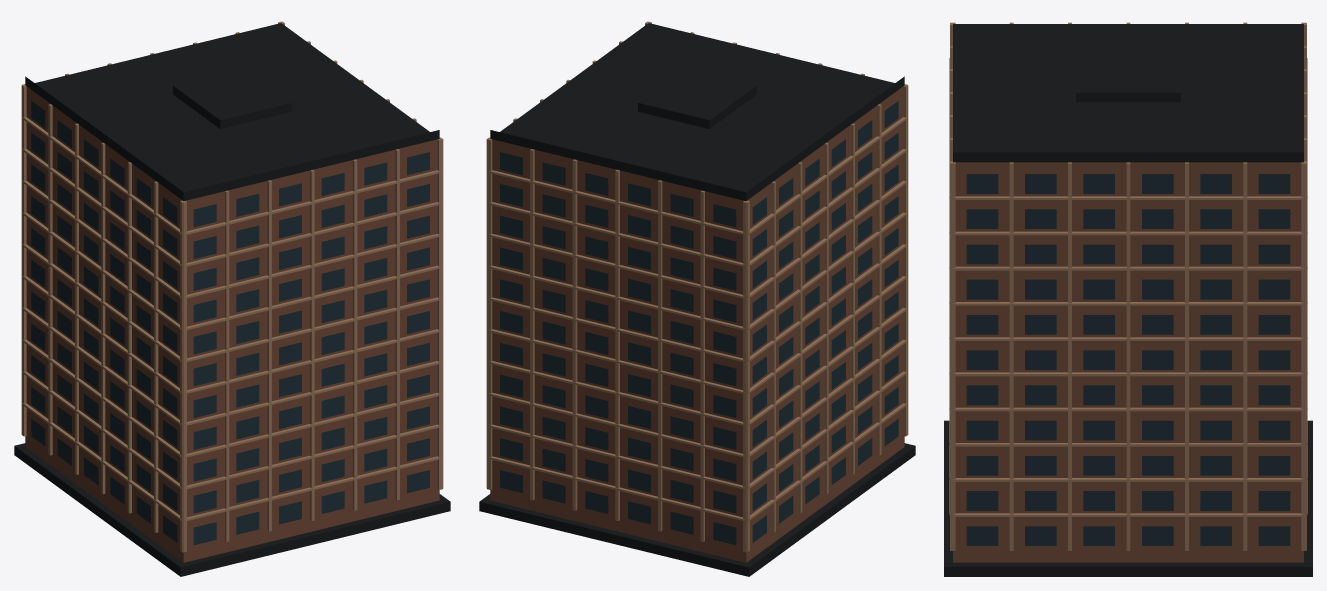
The model's file is office-12.glb.
The picture shows the model from 3 angles, left to right: view 1: azimuth 30°, elevation 25°; view 2: azimuth 150°, elevation 25°; view 3: azimuth 270°, elevation 25°; orthographic projection. The views are drawn at different scales.
Parts seen in each view (by area): view 1: brick-midrise; view 2: brick-midrise; view 3: brick-midrise.
Boxes of the visible parts, x1,y1,x2,y2 form: brick-midrise: [14, 21, 450, 576]; brick-midrise: [479, 21, 915, 576]; brick-midrise: [944, 22, 1312, 576].
Bounding box in the file's own units: 34.51 × 47.54 × 36.86.
